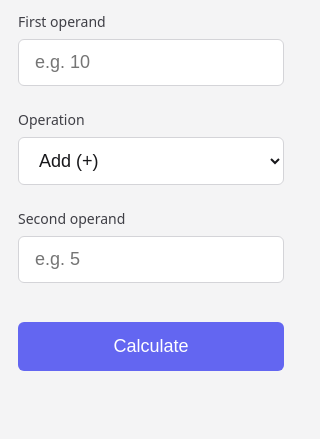
it: CalculatorForm › shows validation error when first operand is empty
Step 1. Type "5" into the field labelled "Second operand" → [151, 260], box [18,236,284,283]
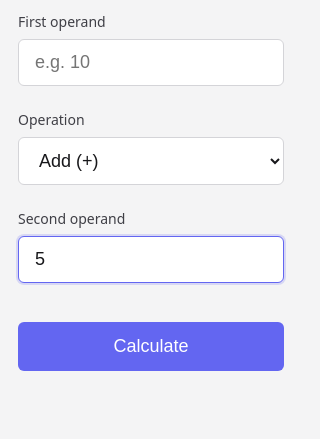
Step 2. Click the button "Calculate" → [151, 347], box [18,322,284,371]
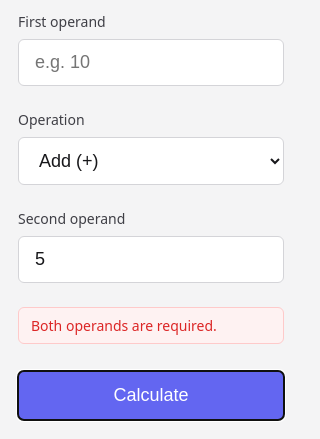
expect the message reads "Both operands are required.": met, box [31,316,217,335]
